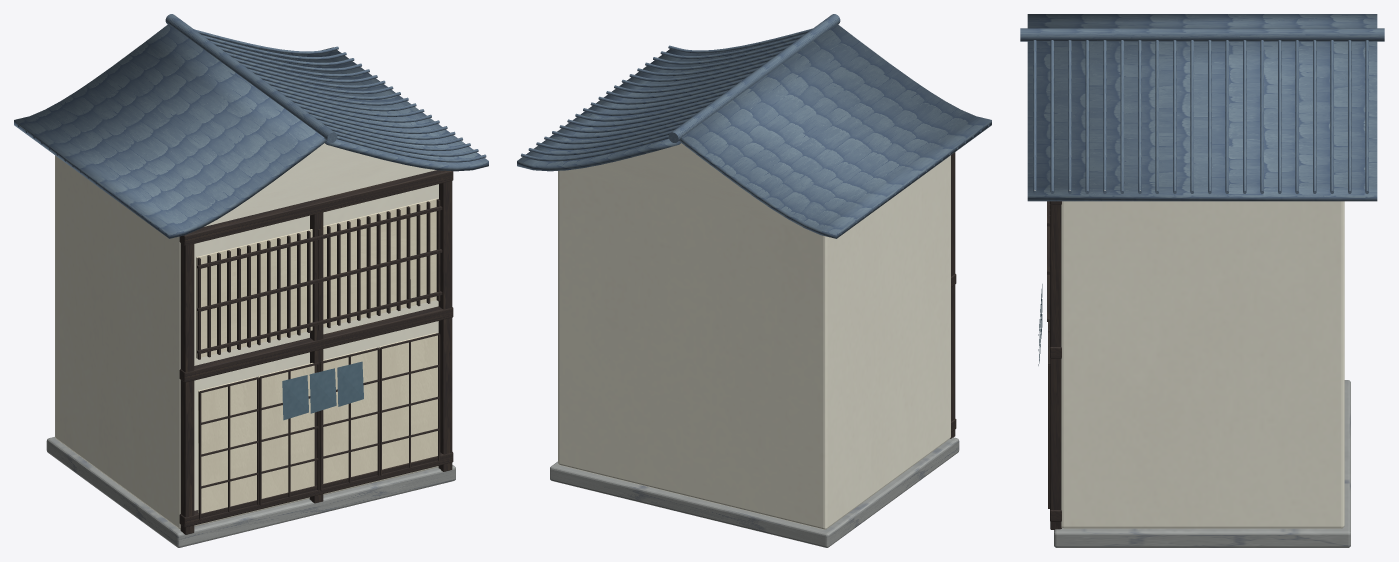
File: house_2.glb
3 views of the same model, side by side, from view 1: azimuth 30°, elevation 25°; view 2: azimuth 150°, elevation 25°; view 3: azimuth 270°, elevation 25° (orthographic). The views are drawn at different scales.
Visible parts, largest first — view 1: house_2; view 2: house_2; view 3: house_2.
Boxes of the visible parts, x1,y1,x2,y2 form: house_2: (14, 14, 488, 547); house_2: (517, 14, 991, 547); house_2: (1020, 14, 1384, 547).
Size of the model in its own units: 5.7 by 6.71 by 5.
Materials: 1 (1 with a texture image).
